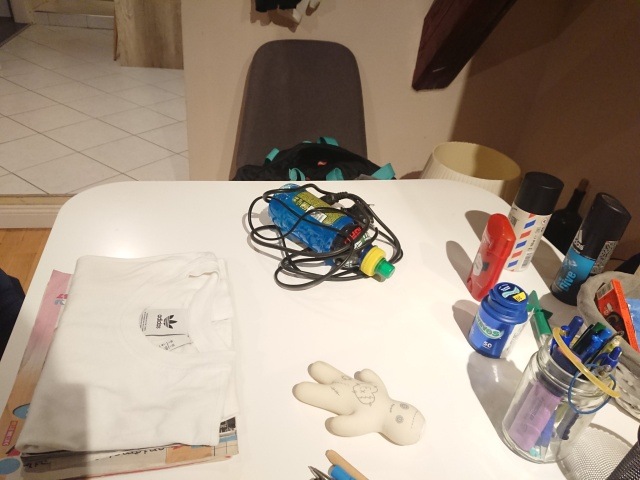Vindi Iso Sport Forest Strawberries 500mL: (267, 181, 396, 279)
